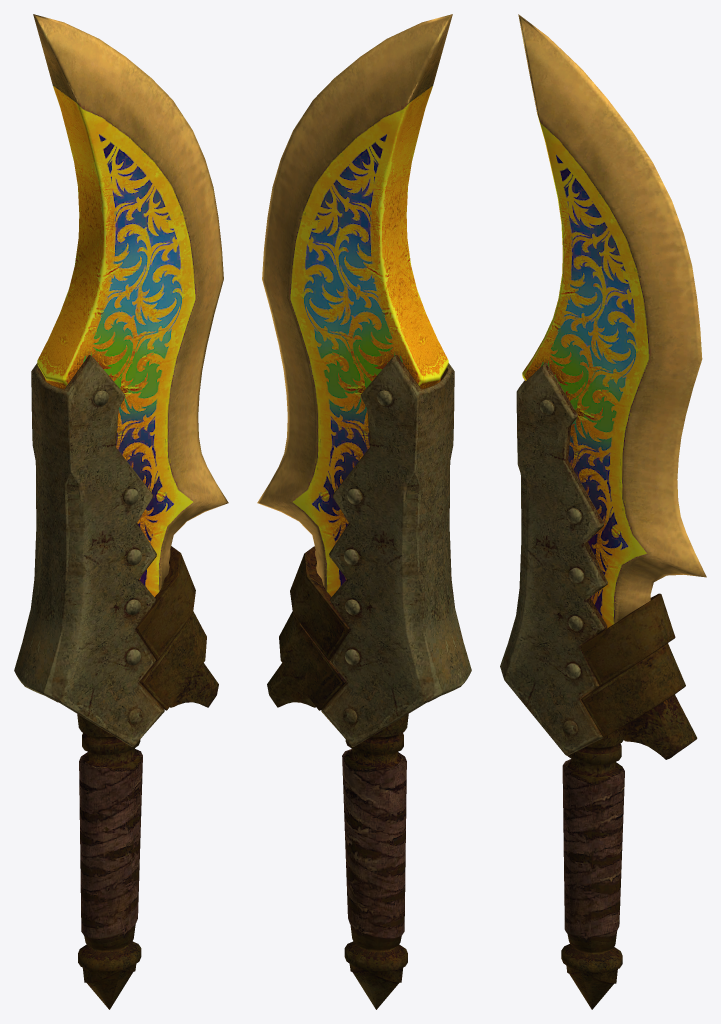
File: bs_one008.obj
3 views of the same model, side by side, from view 1: azimuth 30°, elevation 25°; view 2: azimuth 150°, elevation 25°; view 3: azimuth 330°, elevation 25° (orthographic). The views are drawn at different scales.
Parts seen in each view (by area): view 1: bs_one008_000_LOD_1; view 2: bs_one008_000_LOD_1; view 3: bs_one008_000_LOD_1.
Part boxes in pixels (x1=…): bs_one008_000_LOD_1: x1=14, y1=14, x2=228, y2=1009; bs_one008_000_LOD_1: x1=257, y1=14, x2=471, y2=1009; bs_one008_000_LOD_1: x1=500, y1=14, x2=706, y2=1009.
Bounding box in the file's own units: 23.52 × 111 × 10.45.
